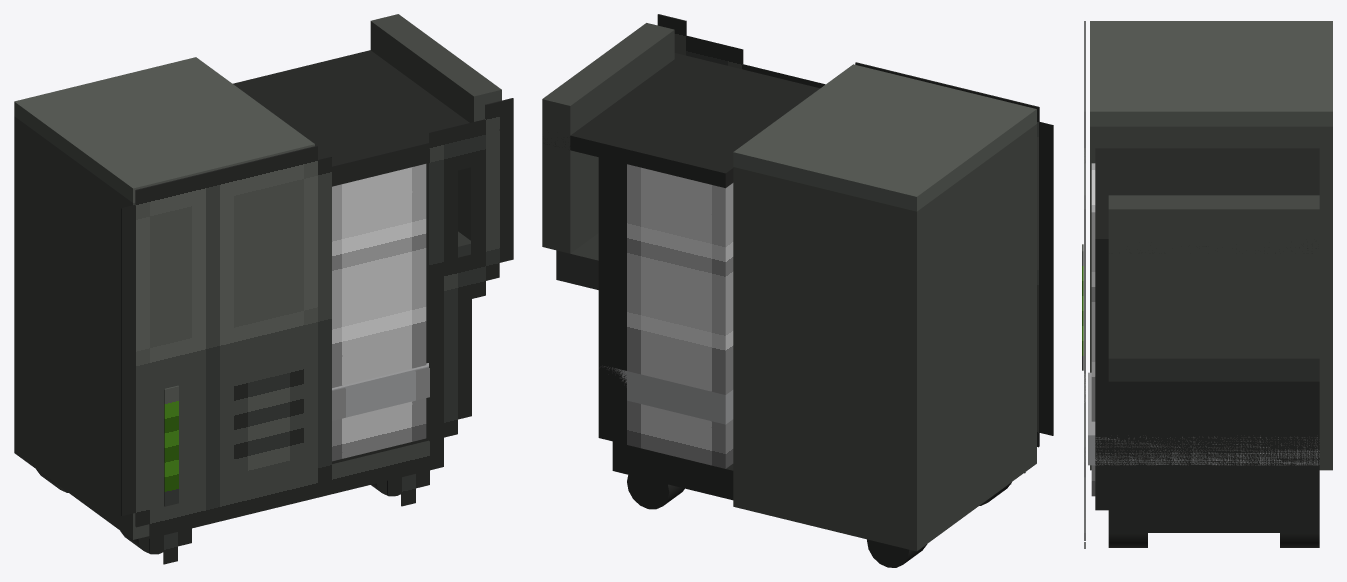
File: CMU3DRMCTankReagentDermaline.glb
The picture shows the model from 3 angles, left to right: view 1: azimuth 30°, elevation 25°; view 2: azimuth 150°, elevation 25°; view 3: azimuth 270°, elevation 25°; orthographic projection. The views are drawn at different scales.
Visible parts, largest first — view 1: original cabinet face, left cabinet core, original right frame and handle, stepped cabinet crown, upper vessel, upper vessel frame, push handle grip, lower vessel, static green source indicator, left wheel source edge, right wheel source edge, right upright frame; view 2: left cabinet core, stepped cabinet crown, upper vessel, upper vessel frame, push handle grip, right upright frame, original cabinet face, lower vessel, low wheeled chassis, fixed middle frame bar, original right frame and handle, push handle lower return (+2 smaller); view 3: push handle grip, right upright frame, stepped cabinet crown, upper vessel frame, left cabinet core, push handle lower return, low wheeled chassis, fixed middle frame bar, upper vessel, right front wheel, right rear wheel, original cabinet face (+1 smaller).
Part boxes in pixels (<box>): original cabinet face: <box>121,145,331,538</box>; left cabinet core: <box>14,116,176,539</box>; original right frame and handle: <box>332,98,513,493</box>; stepped cabinet crown: <box>14,57,314,202</box>; upper vessel: <box>332,164,426,387</box>; upper vessel frame: <box>233,50,469,171</box>; push handle grip: <box>370,14,501,240</box>; lower vessel: <box>332,398,426,461</box>; static green source indicator: <box>164,385,178,506</box>; left wheel source edge: <box>149,528,191,564</box>; right wheel source edge: <box>387,470,429,506</box>; right upright frame: <box>426,163,428,436</box>; left cabinet core: <box>733,124,1036,551</box>; stepped cabinet crown: <box>733,64,1036,211</box>; upper vessel: <box>627,164,733,394</box>; upper vessel frame: <box>544,53,819,188</box>; push handle grip: <box>542,23,674,253</box>; right upright frame: <box>598,157,626,444</box>; original cabinet face: <box>855,62,1053,447</box>; lower vessel: <box>627,400,733,468</box>; low wheeled chassis: <box>612,441,733,500</box>; fixed middle frame bar: <box>604,366,733,424</box>; original right frame and handle: <box>657,14,825,88</box>; push handle lower return: <box>556,233,598,289</box>; push handle grip: <box>1108,195,1319,358</box>; right upright frame: <box>1095,254,1319,510</box>; stepped cabinet crown: <box>1090,21,1332,126</box>; upper vessel frame: <box>1095,148,1319,253</box>; left cabinet core: <box>1090,126,1332,470</box>; push handle lower return: <box>1108,358,1319,381</box>; low wheeled chassis: <box>1108,510,1319,532</box>; fixed middle frame bar: <box>1088,372,1319,465</box>; upper vessel: <box>1091,163,1095,421</box>; right front wheel: <box>1108,533,1147,547</box>; right rear wheel: <box>1280,533,1319,547</box>; original cabinet face: <box>1084,21,1085,477</box>.
Bounding box in the file's own units: 0.875 × 0.8125 × 0.475.
Materials: 11 (6 with a texture image).
